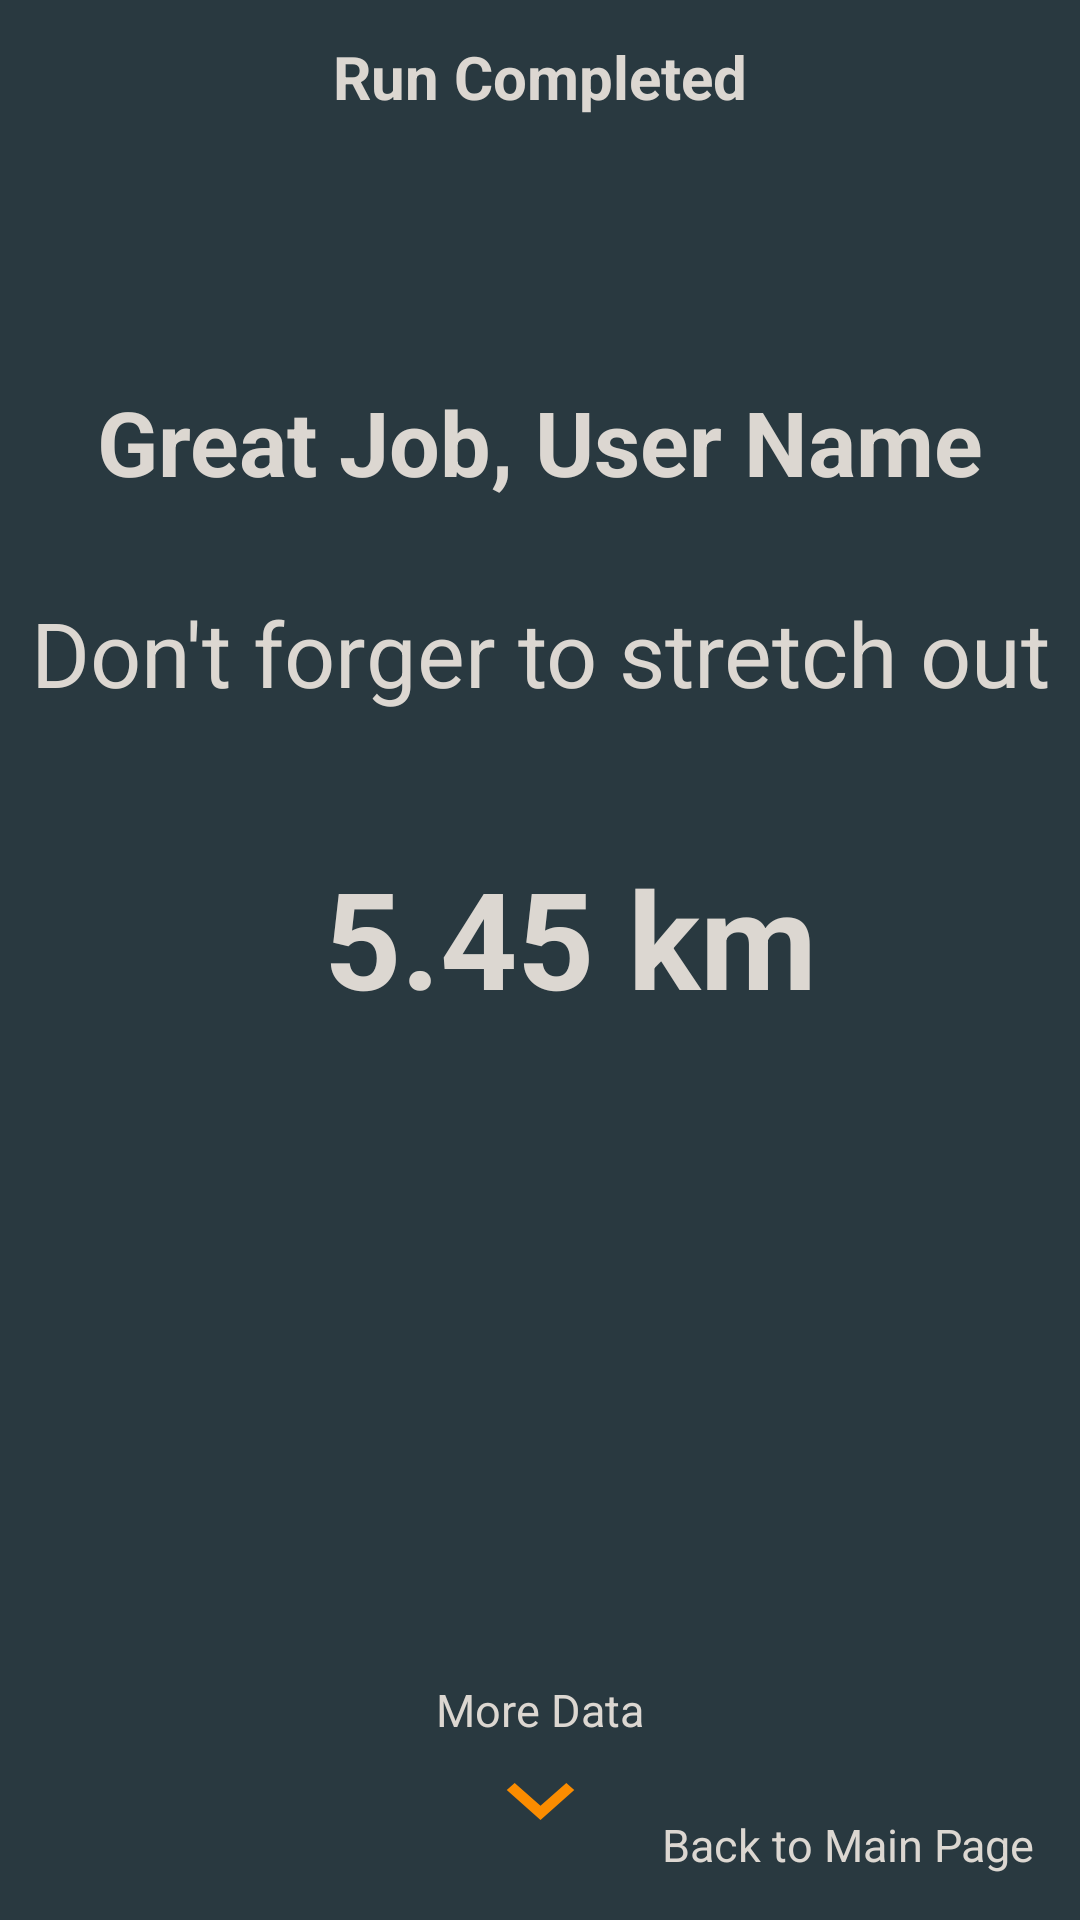

Named icons in this screenshot (1080w x 1920h) and their centers, [x,y]:
keyboard arrow down: [540,1801]
